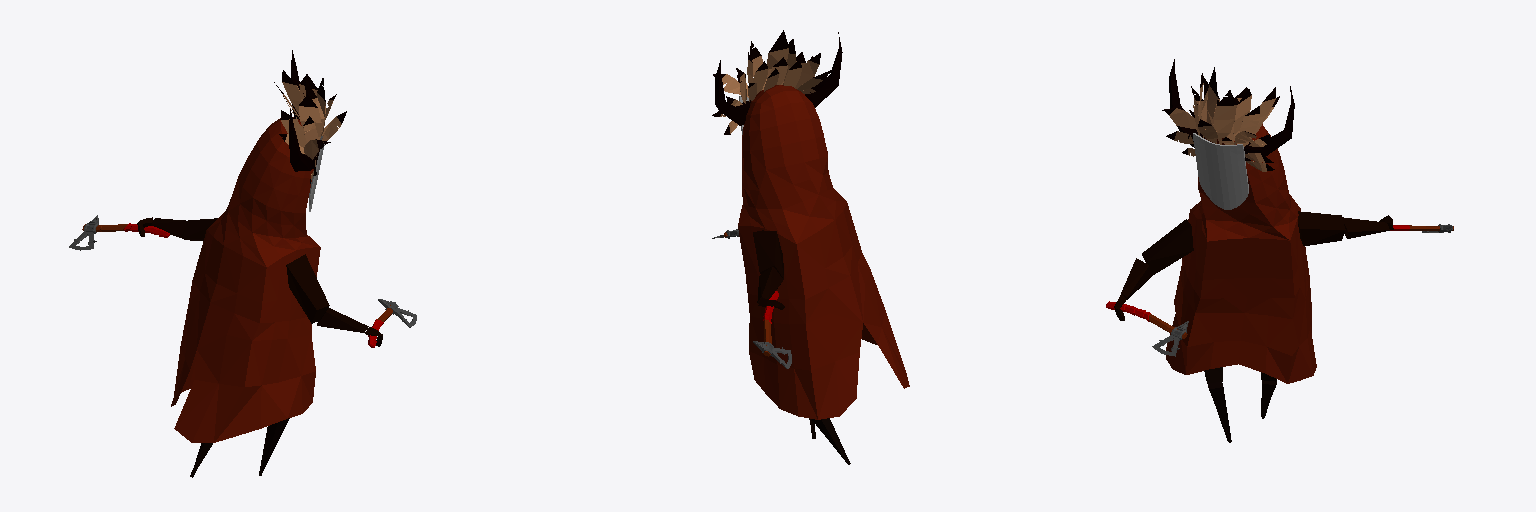
The model's file is zeleniy_ishidnikblend.obj.
3 views of the same model, side by side, from view 1: azimuth 30°, elevation 25°; view 2: azimuth 150°, elevation 25°; view 3: azimuth 270°, elevation 25° (orthographic).
Parts seen in each view (by area): view 1: Cube_Cube.001, Cube.001_Cube, Cube.002; view 2: Cube_Cube.001, Cube.001_Cube; view 3: Cube_Cube.001, Cube.002.
Part boxes in pixels (bbox=[...]): Cube_Cube.001: bbox=[137, 50, 382, 477]; Cube.001_Cube: bbox=[69, 215, 169, 250]; Cube.002: bbox=[368, 299, 416, 347]; Cube_Cube.001: bbox=[712, 30, 909, 464]; Cube.001_Cube: bbox=[753, 291, 791, 368]; Cube_Cube.001: bbox=[1114, 59, 1393, 442]; Cube.002: bbox=[1106, 301, 1188, 356].
Bounding box in the file's own units: 9.02 × 15.66 × 12.51.